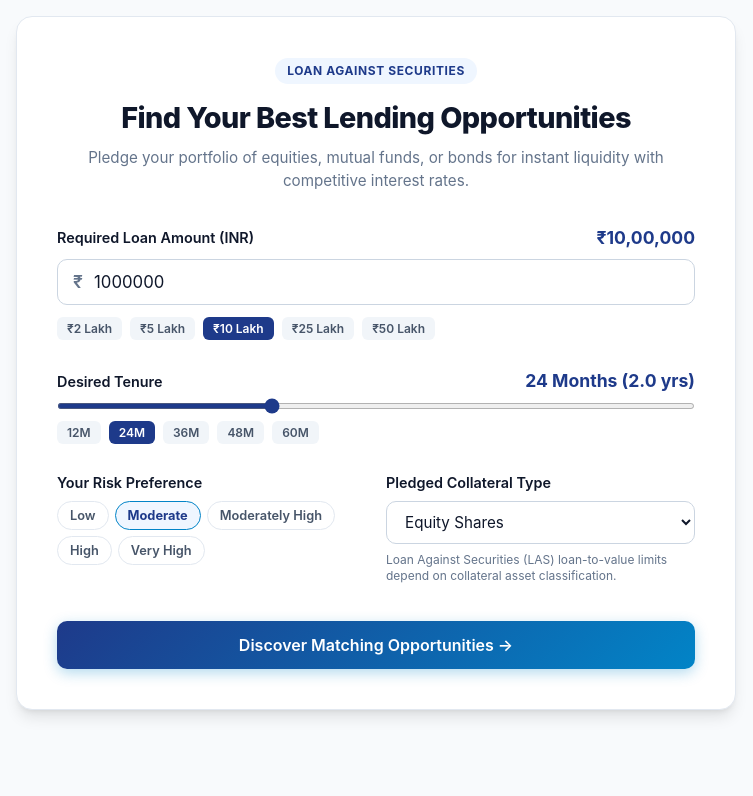
it: RequirementForm › keeps the user on the requirement form when input is invalid
Step 1. Clear the number field labelled "Required Loan Amount (INR)" → (376, 282), box [57,259,695,305]
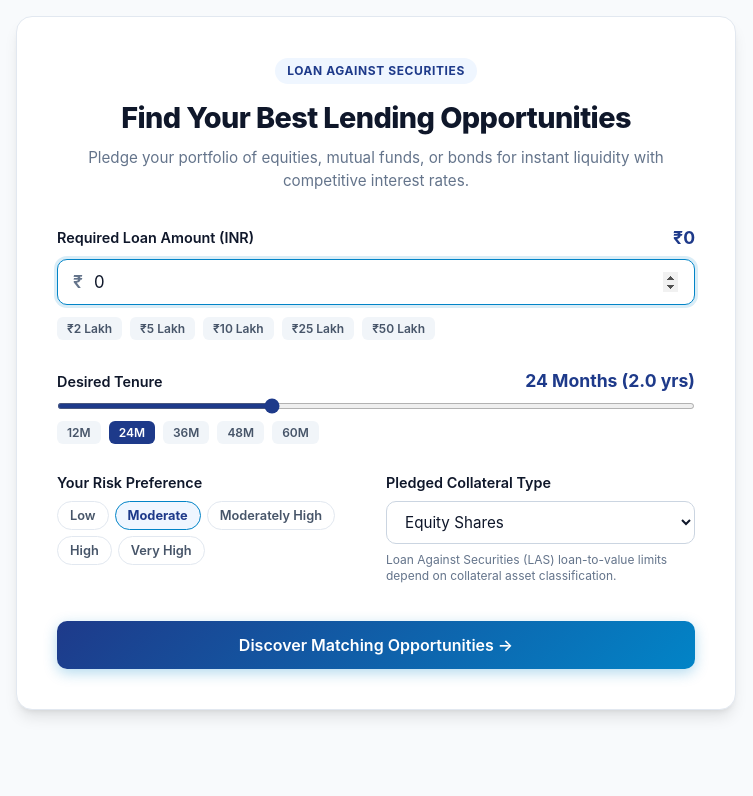
Step 2. Click the button "Discover Matching Opportunities →" → (376, 645), box [57,621,695,669]
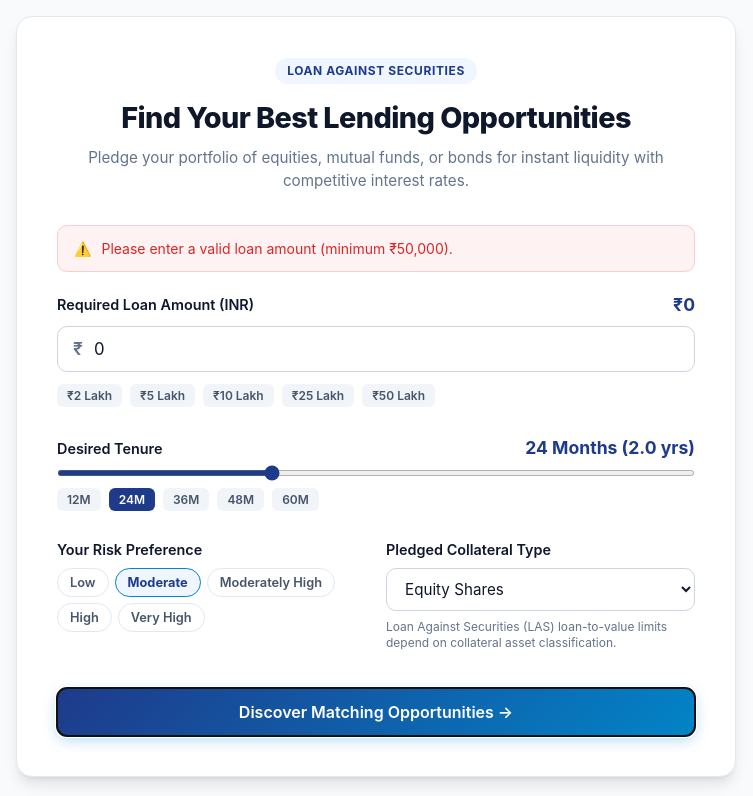
Expected: the heading "Find Your Best Lending Opportunities" is shown, [121,100,631,135]
Expected: the message "⚠️ Please enter a valid loan amount (minimum ₹50,000)." is shown, [57,225,695,272]
